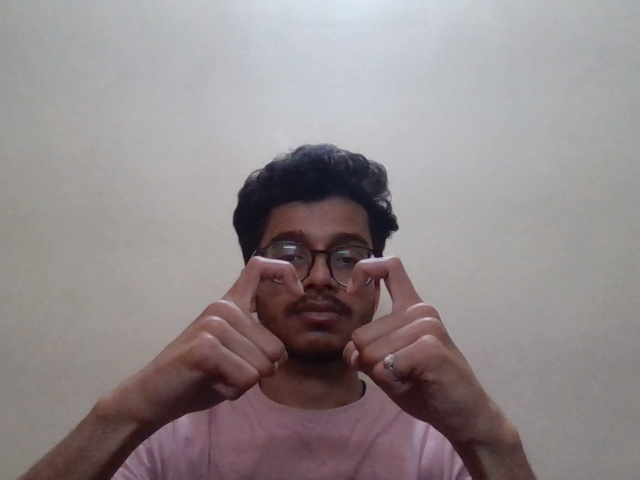who: (180, 249, 454, 420)
